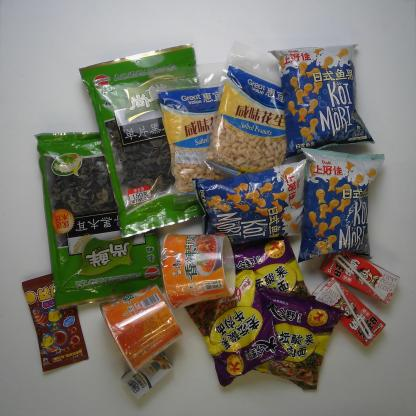Candy: (20, 271, 92, 375)
Dried Food: (75, 41, 208, 241), (33, 130, 167, 313)
Dried Fruit: (197, 40, 296, 192), (145, 58, 244, 208)
Instant Noodles: (182, 266, 292, 390), (247, 283, 349, 393), (97, 281, 187, 377), (226, 231, 313, 316), (158, 231, 238, 312)
Milk: (308, 273, 388, 349), (318, 245, 402, 307), (119, 349, 176, 401)
Puffed Food: (265, 41, 378, 163), (294, 145, 389, 267), (190, 157, 310, 250)
